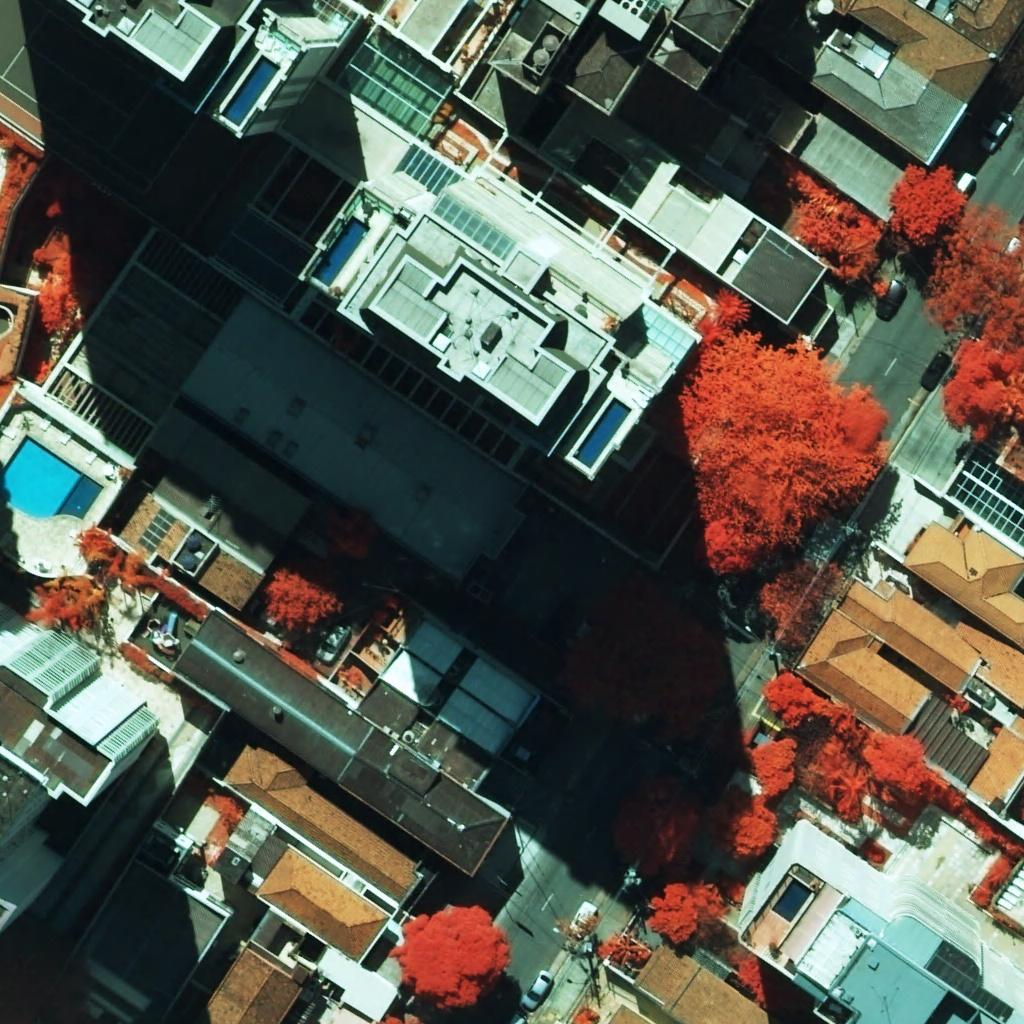pool: (573, 397, 632, 469), (221, 55, 280, 126), (312, 216, 370, 287), (772, 878, 813, 923)
